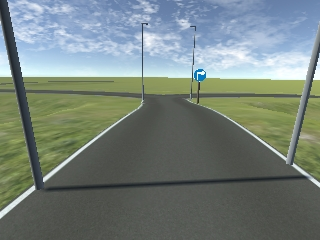right: (193, 70, 206, 80)
